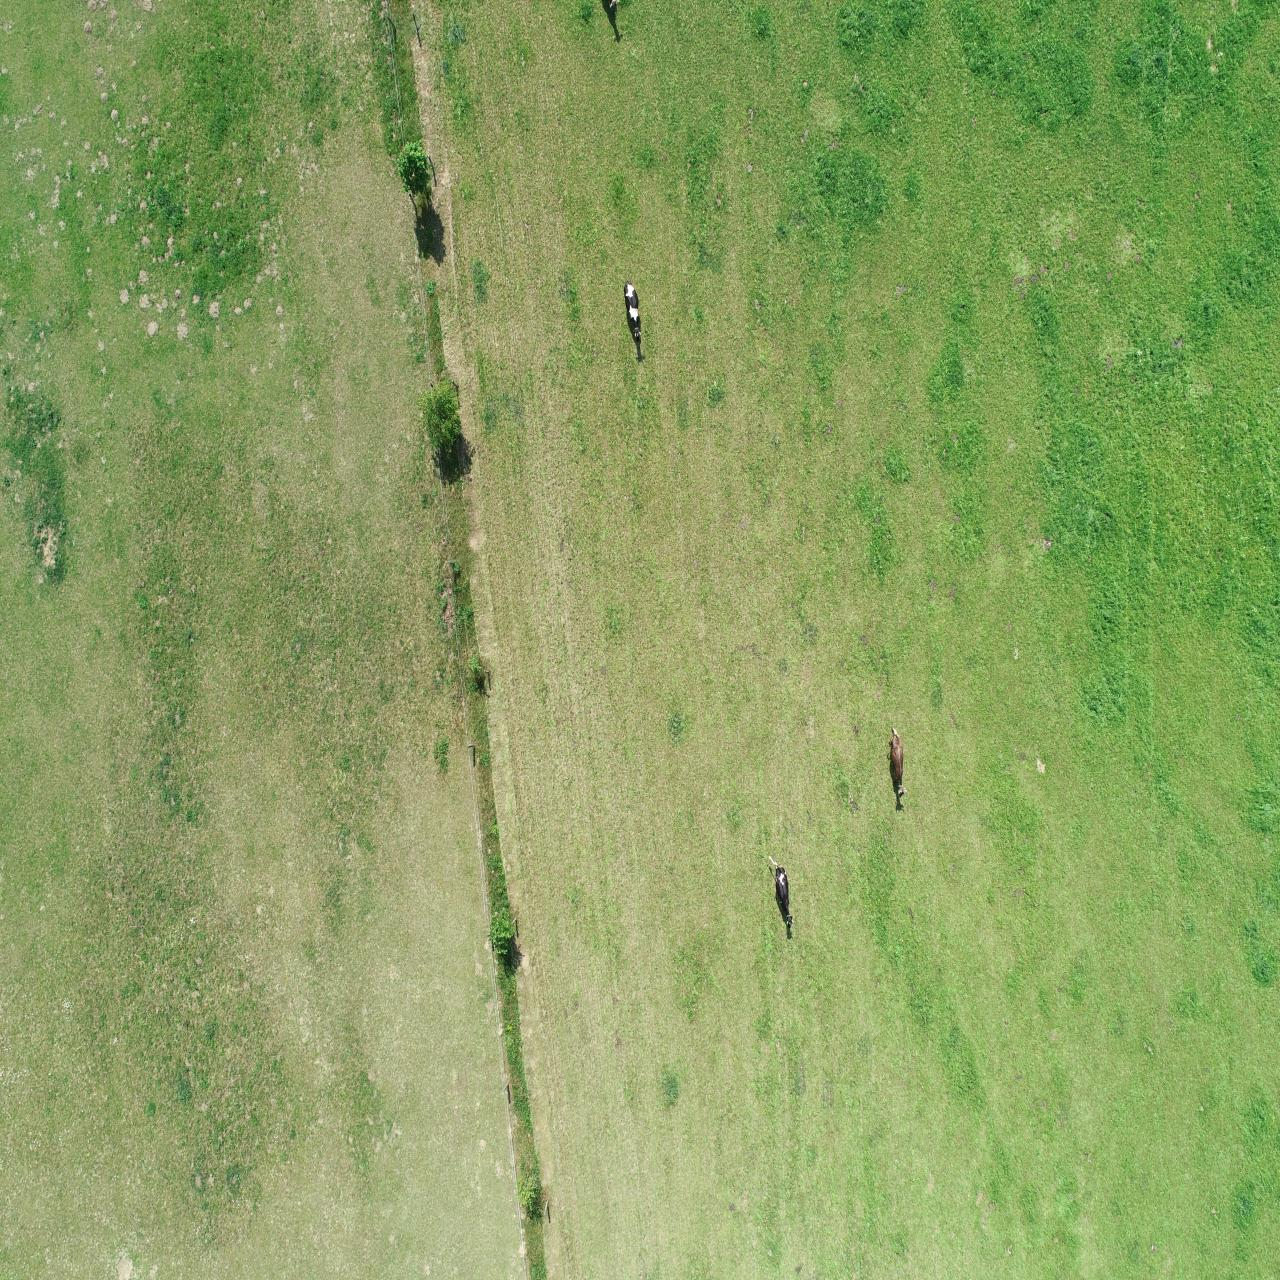cow: (768, 855, 797, 930), (620, 279, 647, 347), (886, 726, 908, 798)
